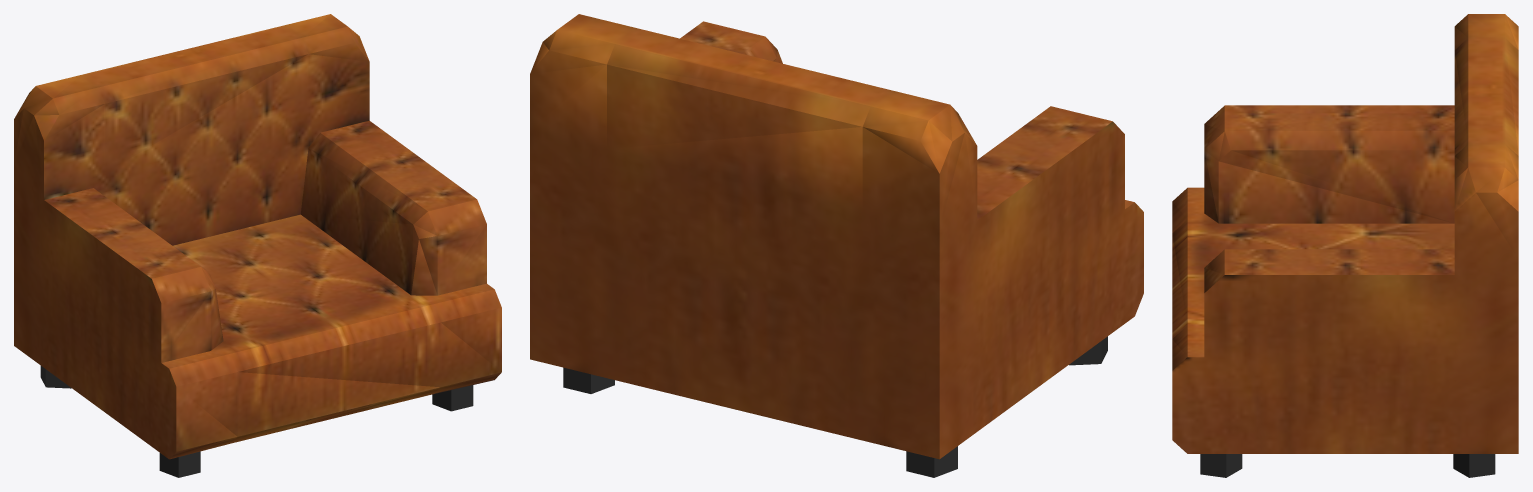
File: poltrona_d.glb
3 renders of one model, left to right at view 1: azimuth 30°, elevation 25°; view 2: azimuth 150°, elevation 25°; view 3: azimuth 270°, elevation 25°, orthographic. The views are drawn at different scales.
Parts seen in each view (by area): view 1: poltrona_d; view 2: poltrona_d; view 3: poltrona_d.
Part boxes in pixels (bbox=[...]): poltrona_d: bbox=[14, 14, 501, 477]; poltrona_d: bbox=[530, 14, 1143, 477]; poltrona_d: bbox=[1172, 14, 1518, 477].
Size of the model in its own units: 1.22 by 1.03 by 1.05.
Materials: 1 (1 with a texture image).
